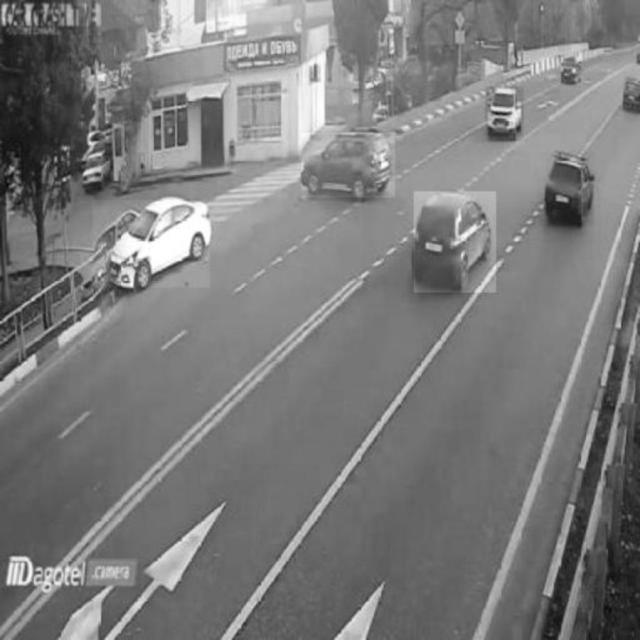accident: (93, 200, 211, 288)
vehicle: (414, 192, 496, 293), (302, 132, 395, 198), (546, 153, 594, 226), (485, 86, 523, 136)
